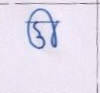i_matra: (38, 8, 60, 49)
